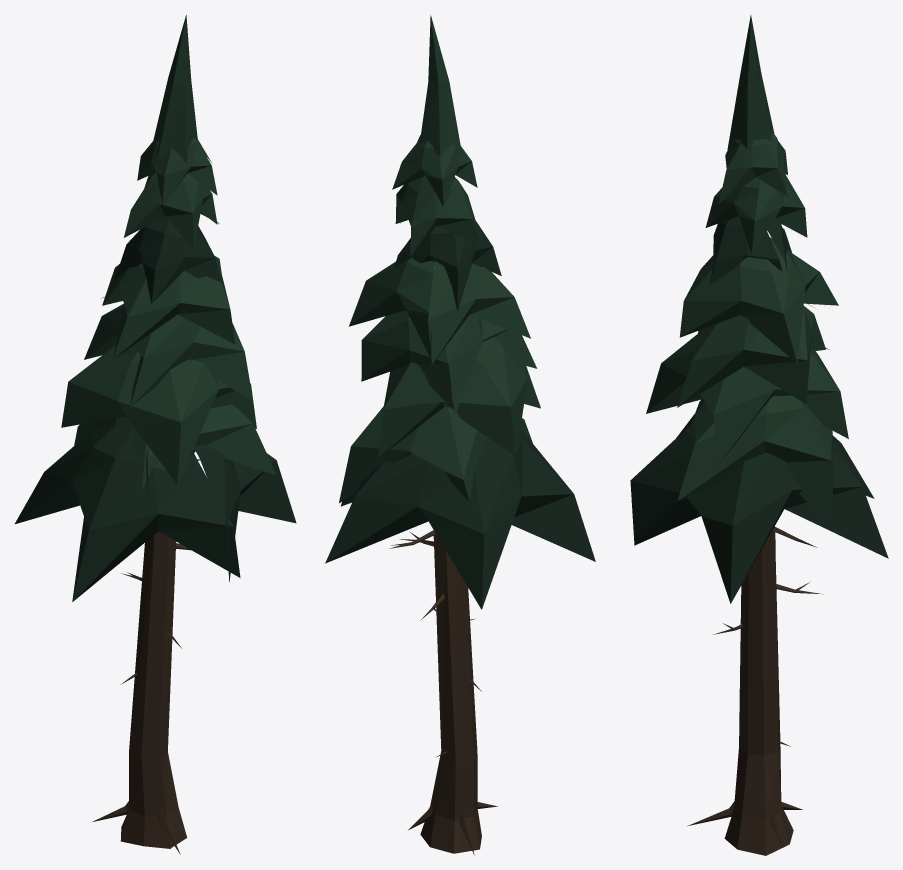
File: pine_tree_a.glb
3 views of the same model, side by side, from view 1: azimuth 30°, elevation 25°; view 2: azimuth 150°, elevation 25°; view 3: azimuth 270°, elevation 25° (orthographic). The views are drawn at different scales.
Parts seen in each view (by area): view 1: foliage_pine, foliage_dark, trunk; view 2: foliage_pine, foliage_dark, trunk; view 3: foliage_pine, foliage_dark, trunk.
Boxes of the visible parts, x1,y1,x2,y2 form: foliage_pine: (61,15,276,497); foliage_dark: (15,216,296,601); trunk: (92,531,190,854); foliage_pine: (339,15,540,502); foliage_dark: (325,221,595,609); trunk: (388,530,497,855); foliage_pine: (646,15,848,526); foliage_dark: (630,216,888,603); trunk: (687,526,822,855).
Bounding box in the file's own units: 3.93 × 12.8 × 3.65.
